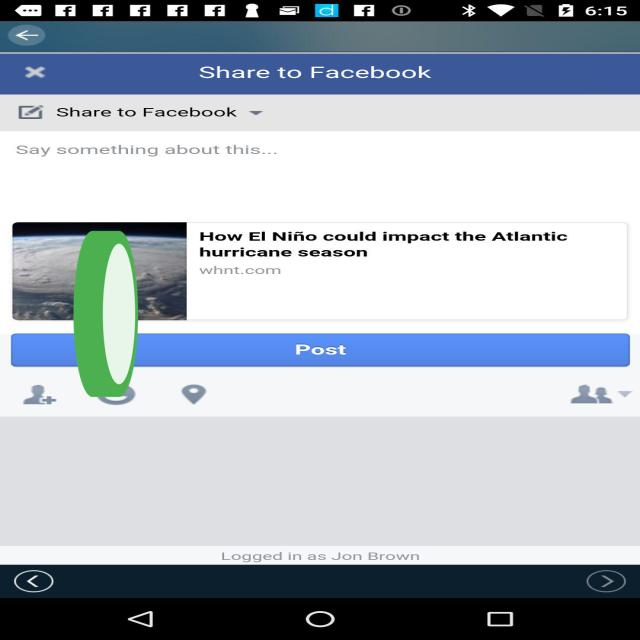social proof: (71, 167, 141, 474)
